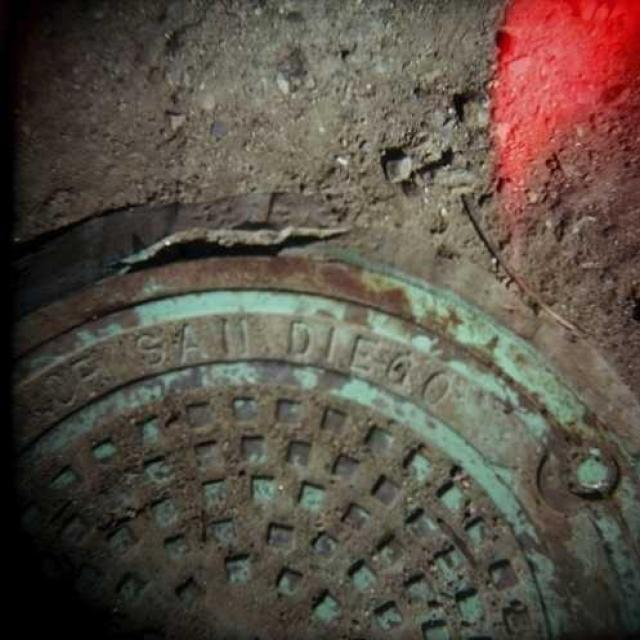manhole: (0, 192, 640, 640)
